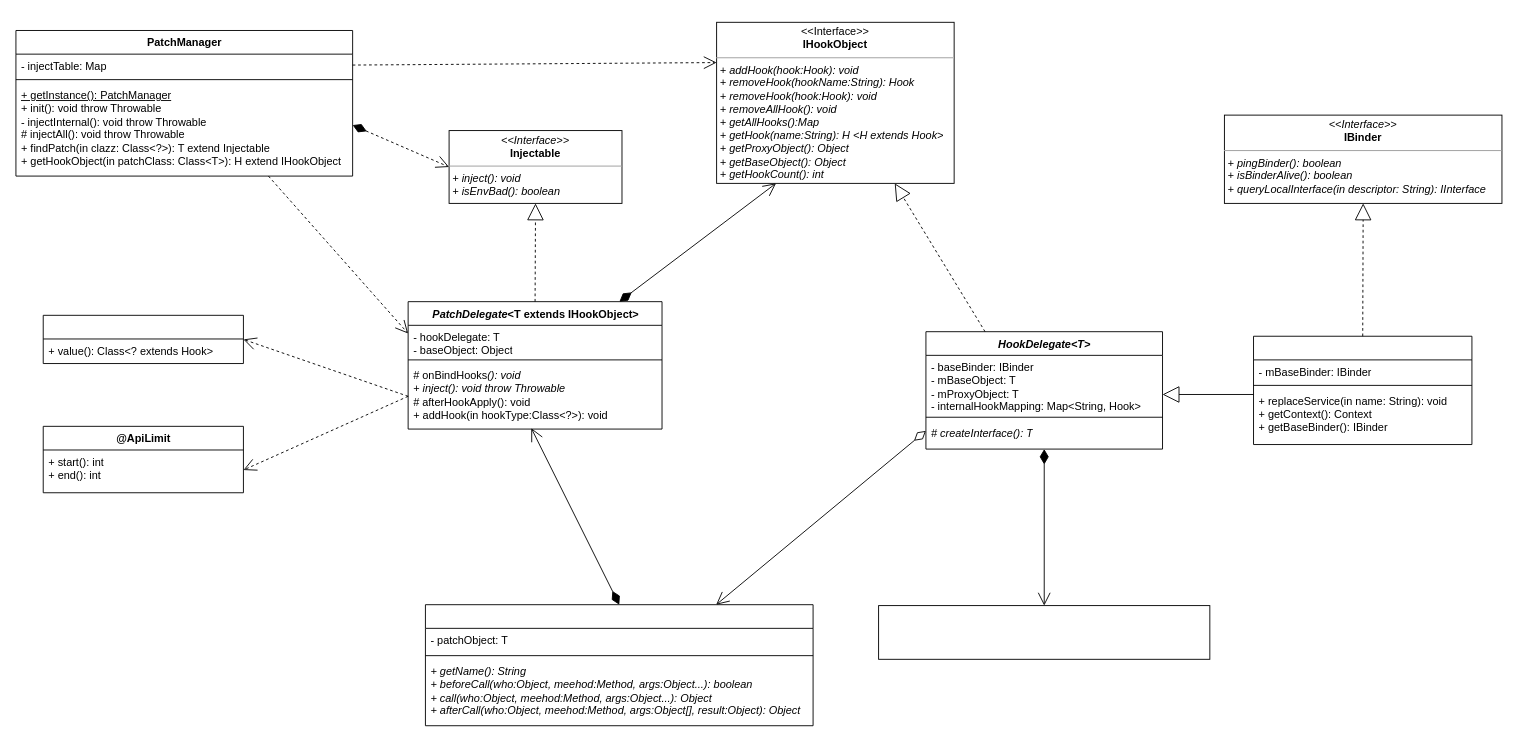
This 1518x742 diagram has some shape labels left out. Each missing label, with the box of its shape:
@Patch: (42, 314, 243, 364)
Hook: (425, 604, 813, 726)
HookBinderDelegate: (1253, 335, 1472, 445)
HookHandler + invoke(who:Object, meehod:Method, args:Object...): Object: (878, 605, 1210, 659)
